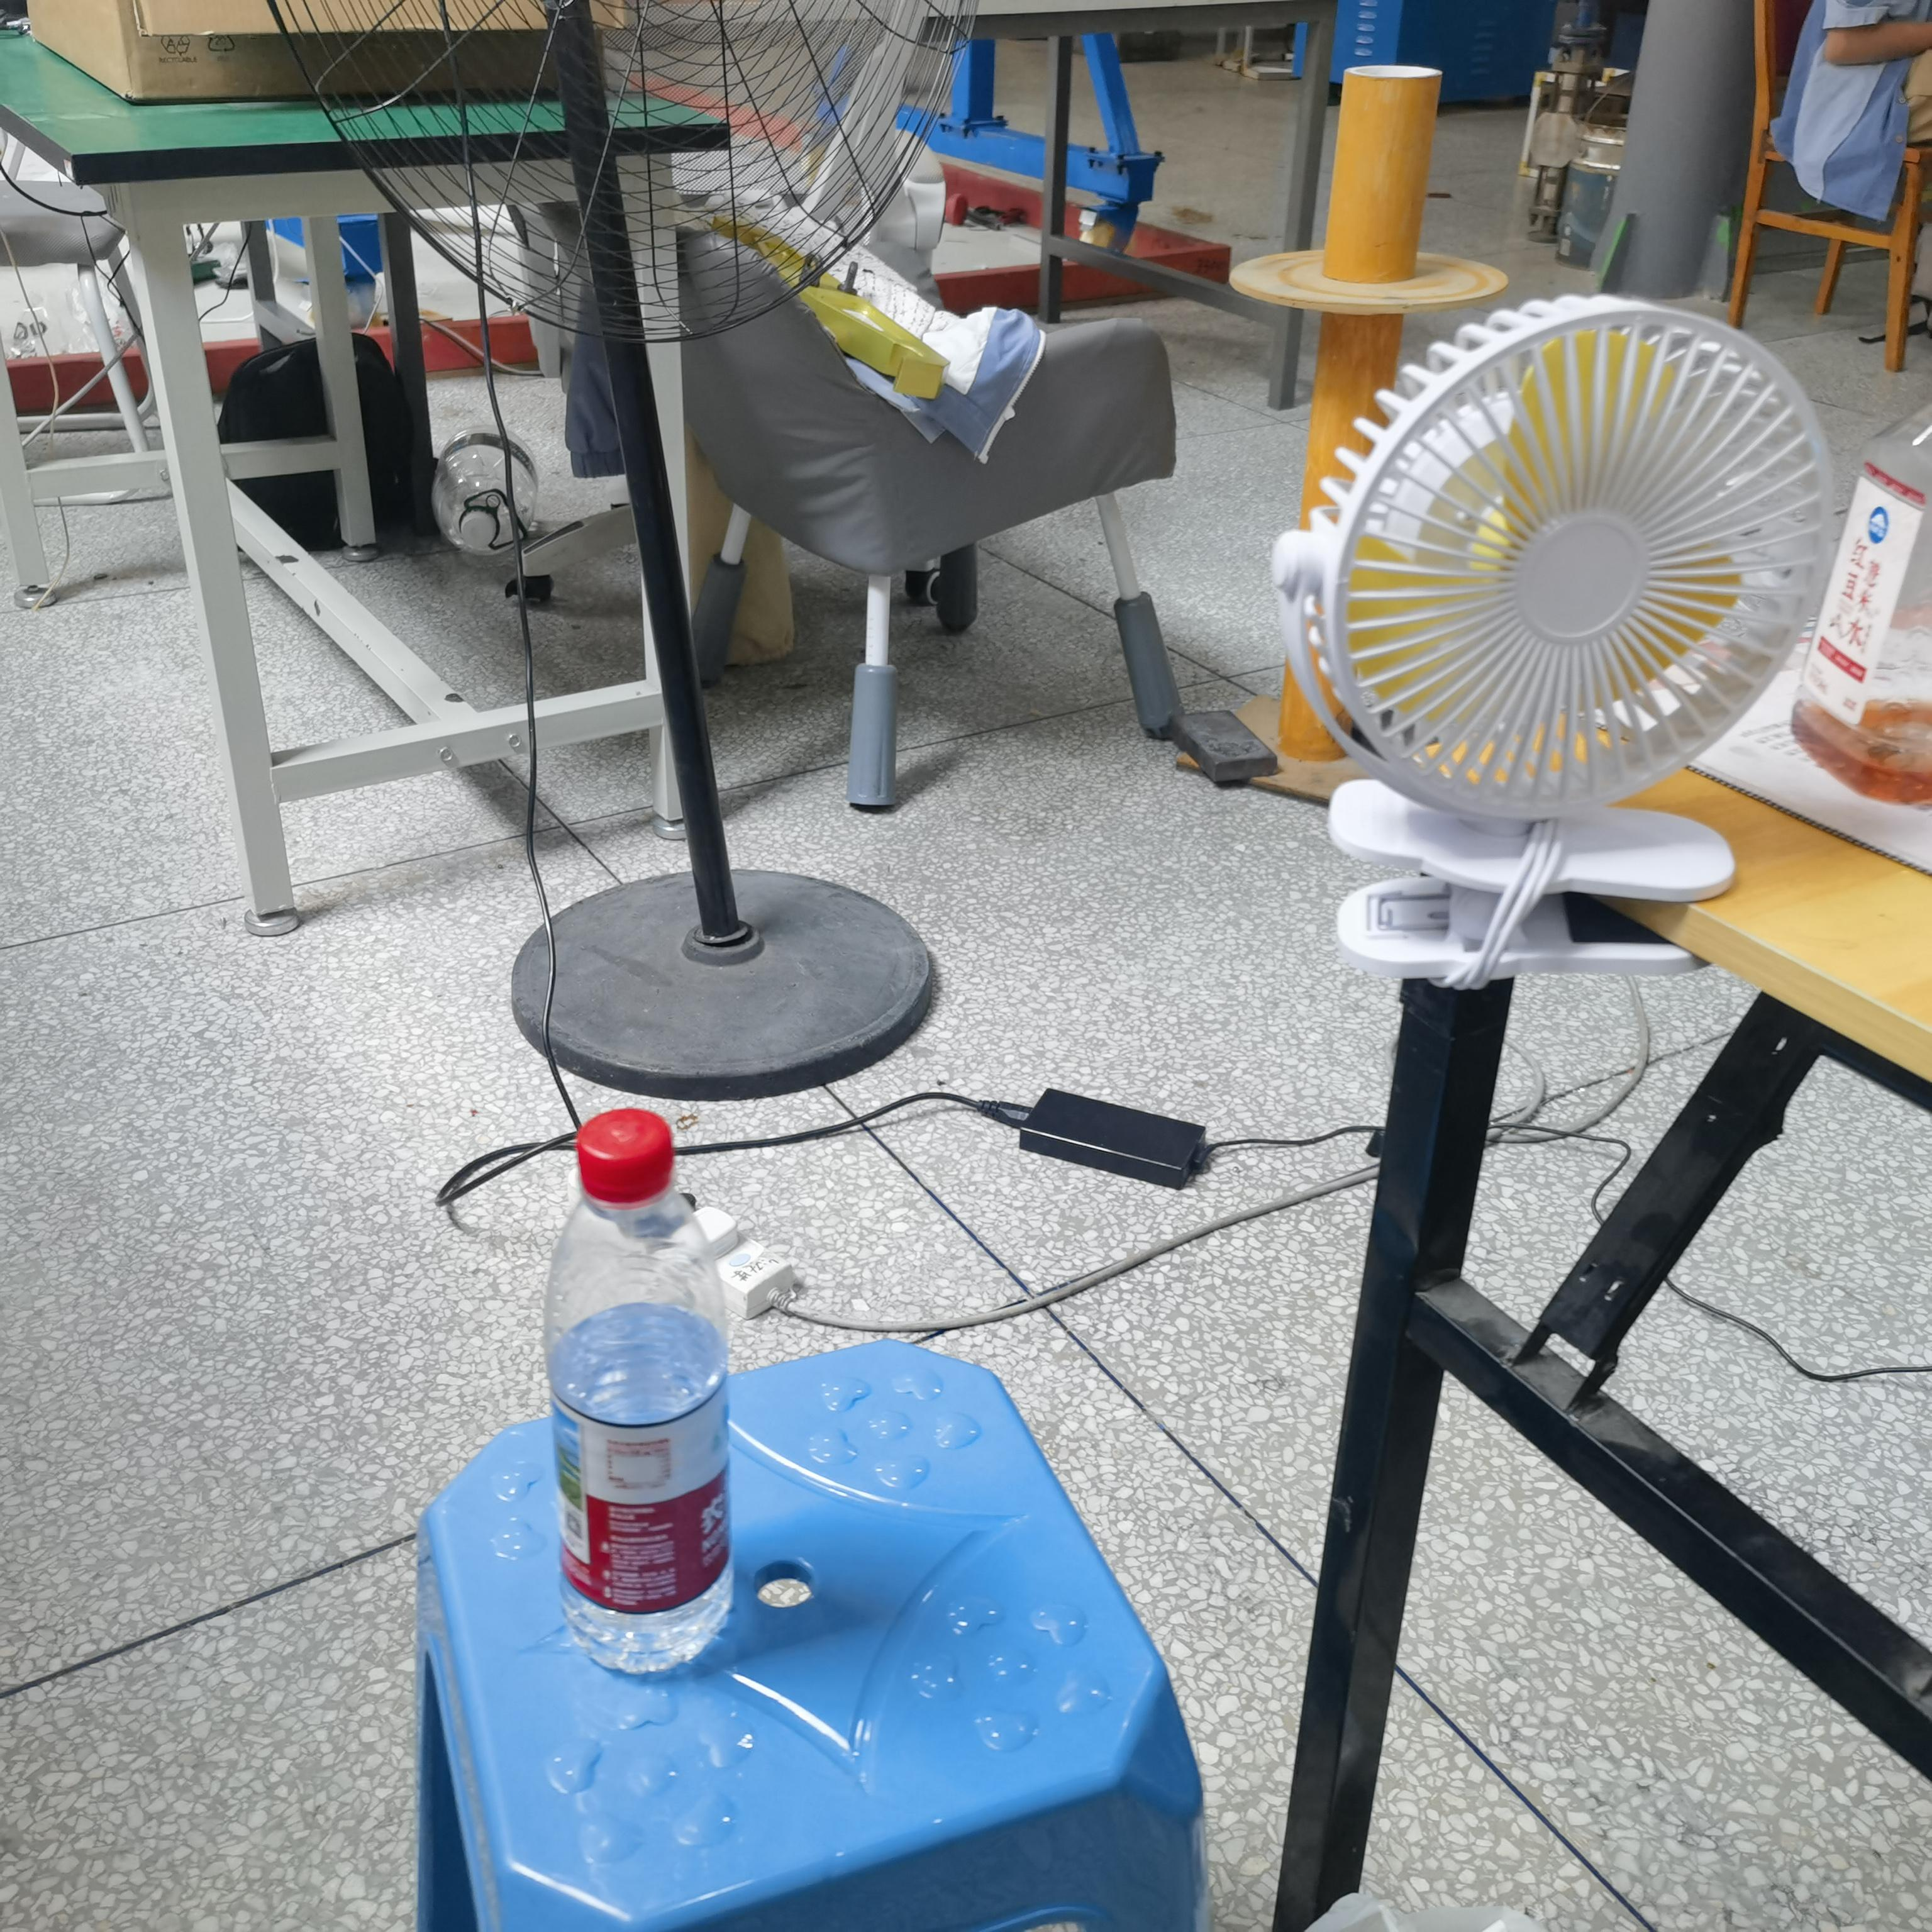bottle: (541, 1102, 741, 1695)
fan: (1270, 281, 1845, 1017)
